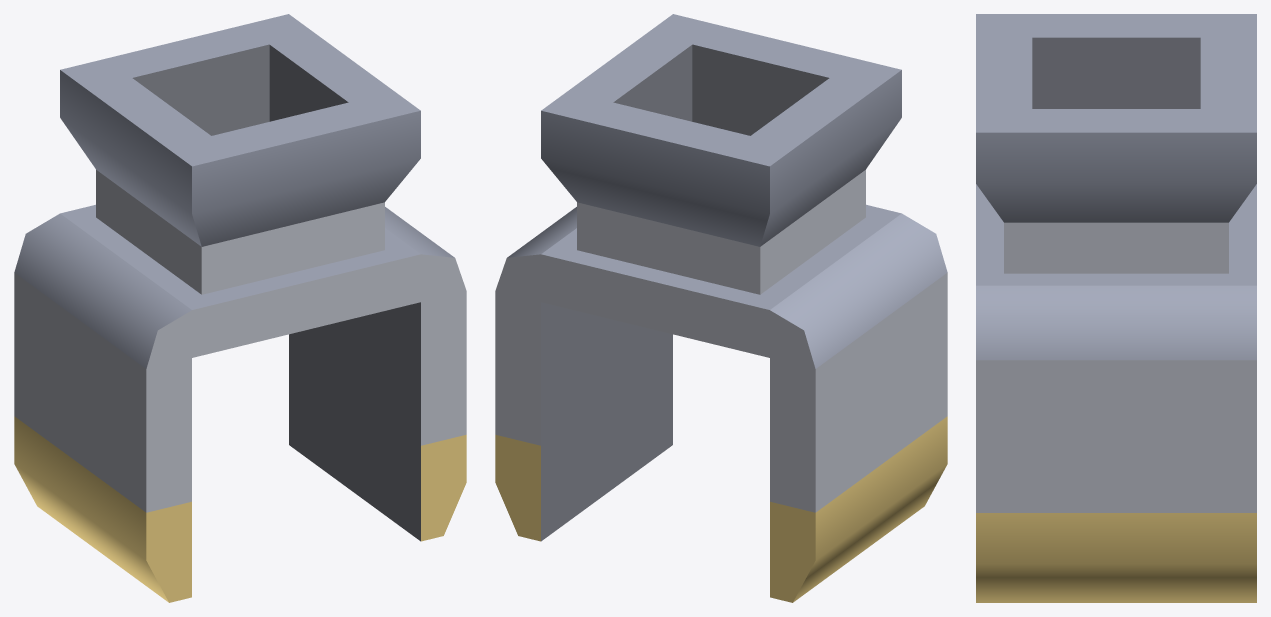
The model's file is cover-stripe-hopper.fbx.
The picture shows the model from 3 angles, left to right: view 1: azimuth 30°, elevation 25°; view 2: azimuth 150°, elevation 25°; view 3: azimuth 270°, elevation 25°; orthographic projection. The views are drawn at different scales.
Parts seen in each view (by area): view 1: cover-stripe-hopper; view 2: cover-stripe-hopper; view 3: cover-stripe-hopper.
Part boxes in pixels (x1=…): cover-stripe-hopper: x1=14, y1=14, x2=466, y2=602; cover-stripe-hopper: x1=495, y1=14, x2=947, y2=602; cover-stripe-hopper: x1=976, y1=14, x2=1256, y2=602.
Size of the model in its own units: 140 by 180 by 100.
